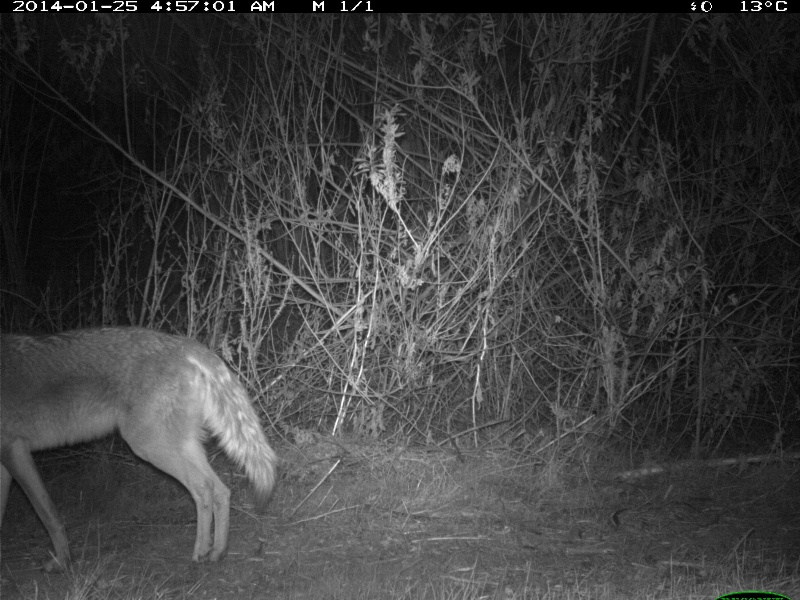coyote: (1, 327, 281, 564)
